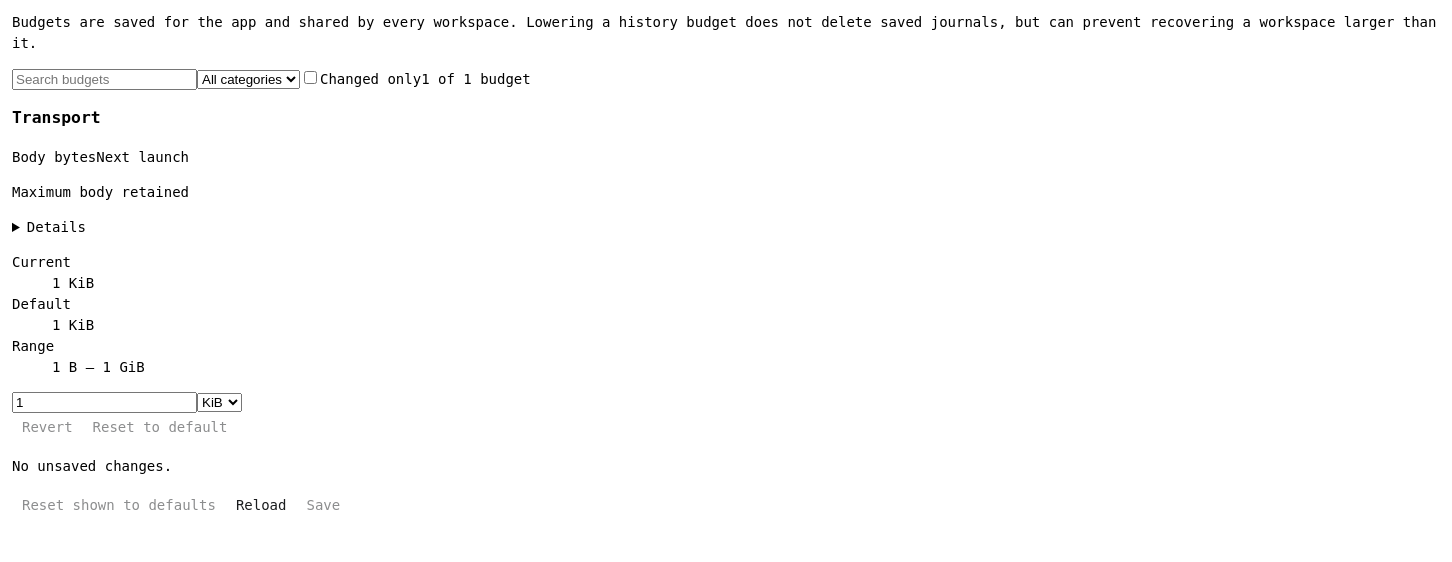
Test: keeps an edited budget through composing Escape without saving, then reverts on plain Escape
Replace the text in the field labelled "Body bytes" with "2" at (104, 403), box [12, 392, 197, 413]
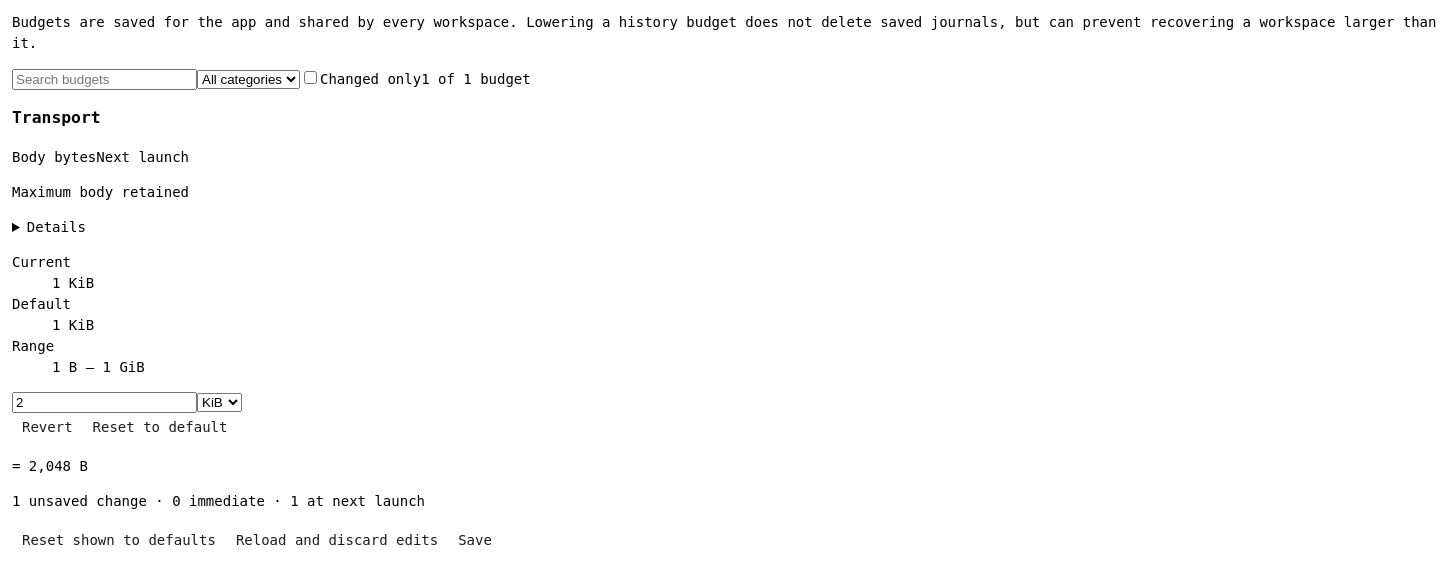
Press Escape in the field labelled "Body bytes", box [12, 392, 197, 413]
Press Escape in the field labelled "Body bytes", box [12, 392, 197, 413]
Press Escape in the field labelled "Body bytes", box [12, 392, 197, 413]
Press Escape in the field labelled "Body bytes", box [12, 392, 197, 413]
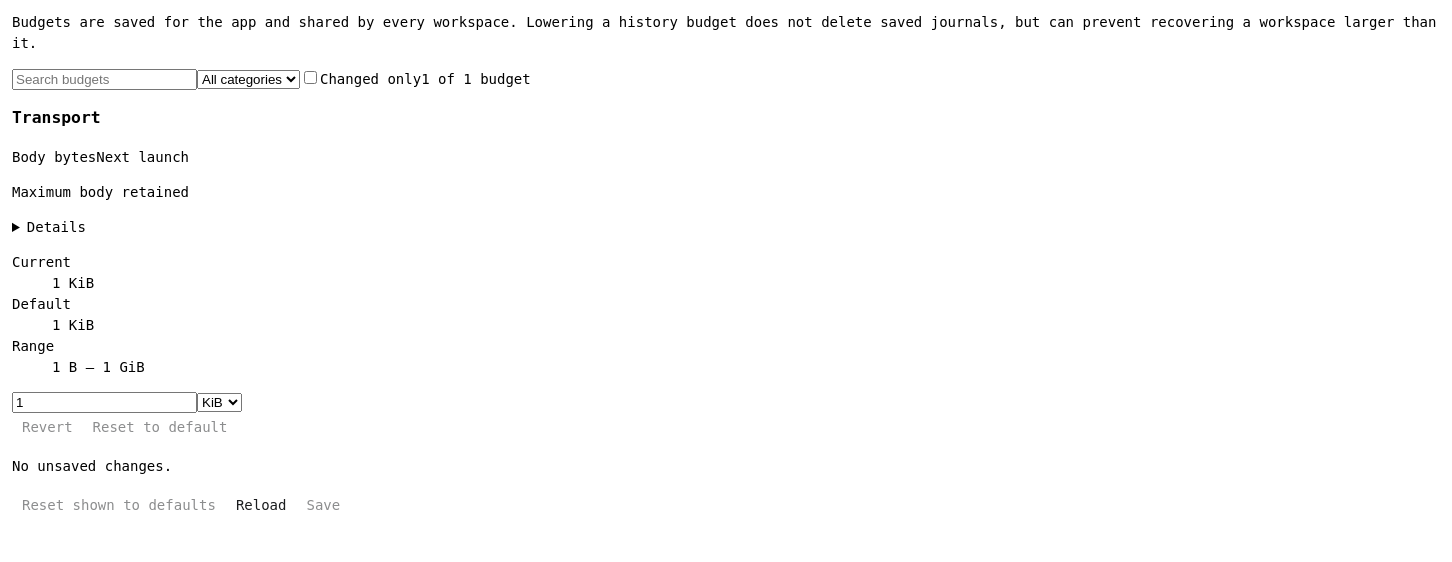
Now the field labelled "Body bytes" holds "1", box [12, 392, 197, 413]
